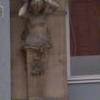Statue: (18, 5, 73, 83)
